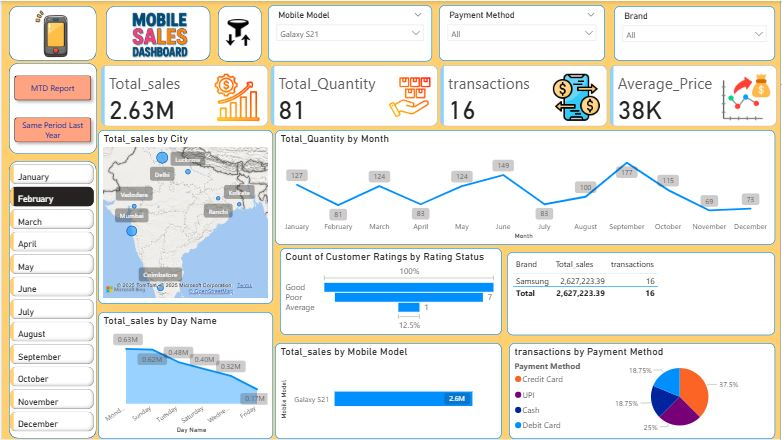

This screenshot's page, from the dashboard's own definition file:
{"tool":"powerbi","page":{"name":"Dashboard","canvas":[1280,720],"ordinal":0},"visuals":[{"type":"shape","box":[11.5,8.2,144,90],"z":0},{"type":"image","box":[22.9,6.5,117.9,94.9],"z":1000},{"type":"shape","box":[11.5,102,144.8,149.7],"z":2000},{"type":"shape","box":[11.5,263.5,144,456.7],"z":3000},{"type":"advancedSlicerVisual","fields":{"Values":["custom_calendar.date.Variation.Date Hierarchy.Month"]},"box":[8.2,263.5,149,456.7],"z":4000},{"type":"cardVisual","fields":{"Data":["sales_data.Total_sales","sales_data.Total_Quantity","sales_data.transactions","sales_data.Average_Price"]},"box":[157.1,99.8,1122.9,111.3],"z":5000},{"type":"slicer","fields":{"Values":["sales_data.Mobile Model"]},"box":[437,6.5,270.1,93.3],"z":6000},{"type":"slicer","fields":{"Values":["sales_data.Payment Method"]},"box":[718.6,6.5,273.4,91.7],"z":7000},{"type":"slicer","fields":{"Values":["sales_data.Brand"]},"box":[1006.6,8.2,265.2,90],"z":8000},{"type":"shape","box":[355.2,8.2,72,91.7],"z":9000},{"type":"image","box":[332.3,24.6,112.9,54],"z":10000},{"type":"shape","box":[171.9,8.2,171.9,90],"z":11000},{"type":"image","box":[132.6,0,252.1,121.1],"z":12000},{"type":"lineChart","fields":{"Y":["sales_data.Total_Quantity"],"Category":["custom_calendar.date.Variation.Date Hierarchy.Month"]},"box":[449.2,212.2,822.6,189.2],"z":13000},{"type":"funnel","fields":{"Y":["CountNonNull(sales_data.Customer Ratings)"],"Category":["sales_data.Rating Status"]},"box":[457.4,406.4,365.2,143.1],"z":14000},{"type":"map","fields":{"Category":["sales_data.City"],"Size":["sales_data.Total_sales"]},"box":[157.9,212.2,287.9,286.3],"z":15000},{"type":"pieChart","fields":{"Y":["sales_data.transactions"],"Category":["sales_data.Payment Method"]},"box":[834.1,562.7,437.6,157.9],"z":16000},{"type":"clusteredBarChart","fields":{"Y":["sales_data.Total_sales"],"Category":["sales_data.Mobile Model"]},"box":[449.2,562.7,373.5,157.9],"z":17000},{"type":"areaChart","fields":{"Category":["custom_calendar.Day Name"],"Y":["sales_data.Total_sales"]},"box":[157.9,511.7,287.9,208.9],"z":18000},{"type":"tableEx","fields":{"Values":["sales_data.Brand","sales_data.Total_sales","sales_data.transactions"]},"box":[830.8,413,440.9,136.6],"z":19000},{"type":"pageNavigator","box":[11.5,113.5,144.8,128.3],"z":20000}]}

Visuals, with their boxes in screenshot pixels (x1, y1, x2, y2), scaled from the page's 1280x720 canvas onto the 782x440 screenshot:
shape: {"x1": 7, "y1": 5, "x2": 95, "y2": 60}
image: {"x1": 14, "y1": 4, "x2": 86, "y2": 62}
shape: {"x1": 7, "y1": 62, "x2": 95, "y2": 154}
shape: {"x1": 7, "y1": 161, "x2": 95, "y2": 439}
advancedSlicerVisual - custom_calendar.date.Variation.Date Hierarchy.Month: {"x1": 5, "y1": 161, "x2": 96, "y2": 439}
cardVisual - sales_data.Total_sales x sales_data.Total_Quantity: {"x1": 96, "y1": 61, "x2": 781, "y2": 129}
slicer - sales_data.Mobile Model: {"x1": 267, "y1": 4, "x2": 432, "y2": 61}
slicer - sales_data.Payment Method: {"x1": 439, "y1": 4, "x2": 606, "y2": 60}
slicer - sales_data.Brand: {"x1": 615, "y1": 5, "x2": 777, "y2": 60}
shape: {"x1": 217, "y1": 5, "x2": 261, "y2": 61}
image: {"x1": 203, "y1": 15, "x2": 272, "y2": 48}
shape: {"x1": 105, "y1": 5, "x2": 210, "y2": 60}
image: {"x1": 81, "y1": 0, "x2": 235, "y2": 74}
lineChart - sales_data.Total_Quantity x custom_calendar.date.Variation.Date Hierarchy.Month: {"x1": 274, "y1": 130, "x2": 777, "y2": 245}
funnel - CountNonNull(sales_data.Customer Ratings) x sales_data.Rating Status: {"x1": 279, "y1": 248, "x2": 503, "y2": 336}
map - sales_data.City x sales_data.Total_sales: {"x1": 96, "y1": 130, "x2": 272, "y2": 305}
pieChart - sales_data.transactions x sales_data.Payment Method: {"x1": 510, "y1": 344, "x2": 777, "y2": 439}
clusteredBarChart - sales_data.Total_sales x sales_data.Mobile Model: {"x1": 274, "y1": 344, "x2": 503, "y2": 439}
areaChart - custom_calendar.Day Name x sales_data.Total_sales: {"x1": 96, "y1": 313, "x2": 272, "y2": 439}
tableEx - sales_data.Brand x sales_data.Total_sales: {"x1": 508, "y1": 252, "x2": 777, "y2": 336}
pageNavigator: {"x1": 7, "y1": 69, "x2": 95, "y2": 148}
